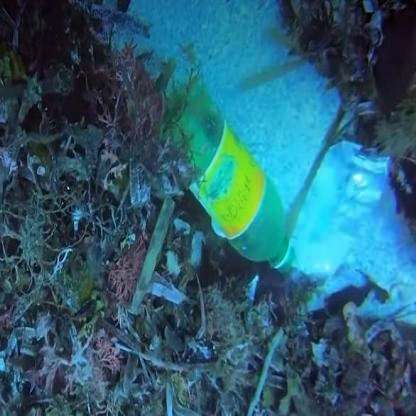pbottle: (154, 88, 309, 271)
